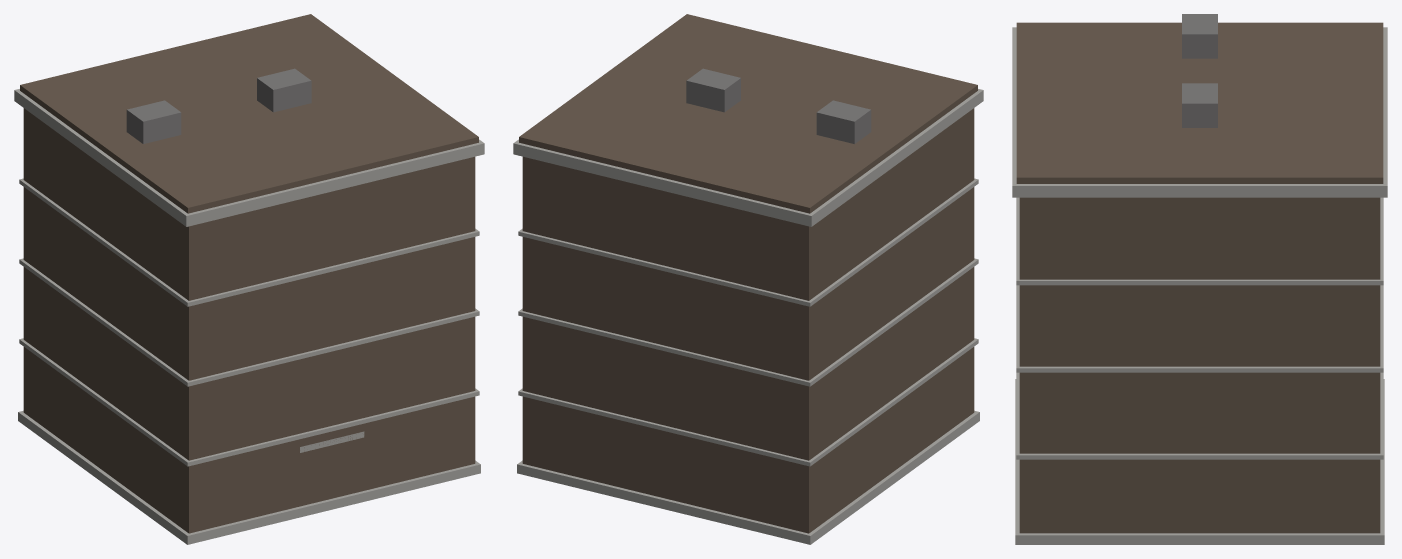
Rendered from b_brick4.glb.
The picture shows the model from 3 angles, left to right: view 1: azimuth 30°, elevation 25°; view 2: azimuth 150°, elevation 25°; view 3: azimuth 270°, elevation 25°; orthographic projection. The views are drawn at different scales.
Visible parts, largest first — view 1: Building; view 2: Building; view 3: Building.
Boxes of the visible parts, x1,y1,x2,y2 form: Building: (14, 14, 484, 544); Building: (513, 14, 983, 544); Building: (1012, 14, 1387, 544).
Bounding box in the file's own units: 12.5 × 14.4 × 12.5.
5 materials, 2 textured.
